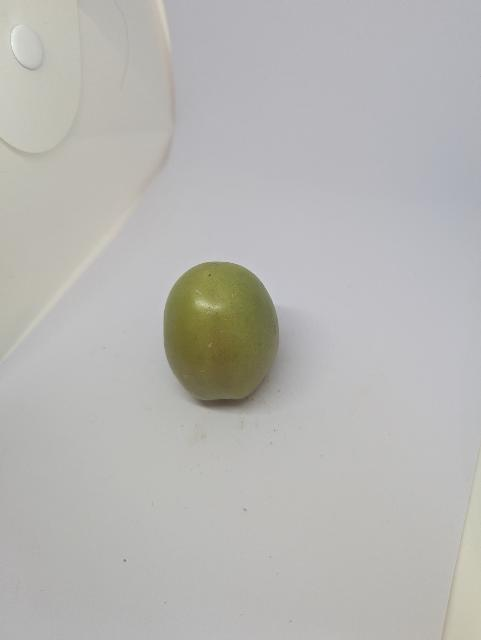green: (147, 253, 299, 429)
